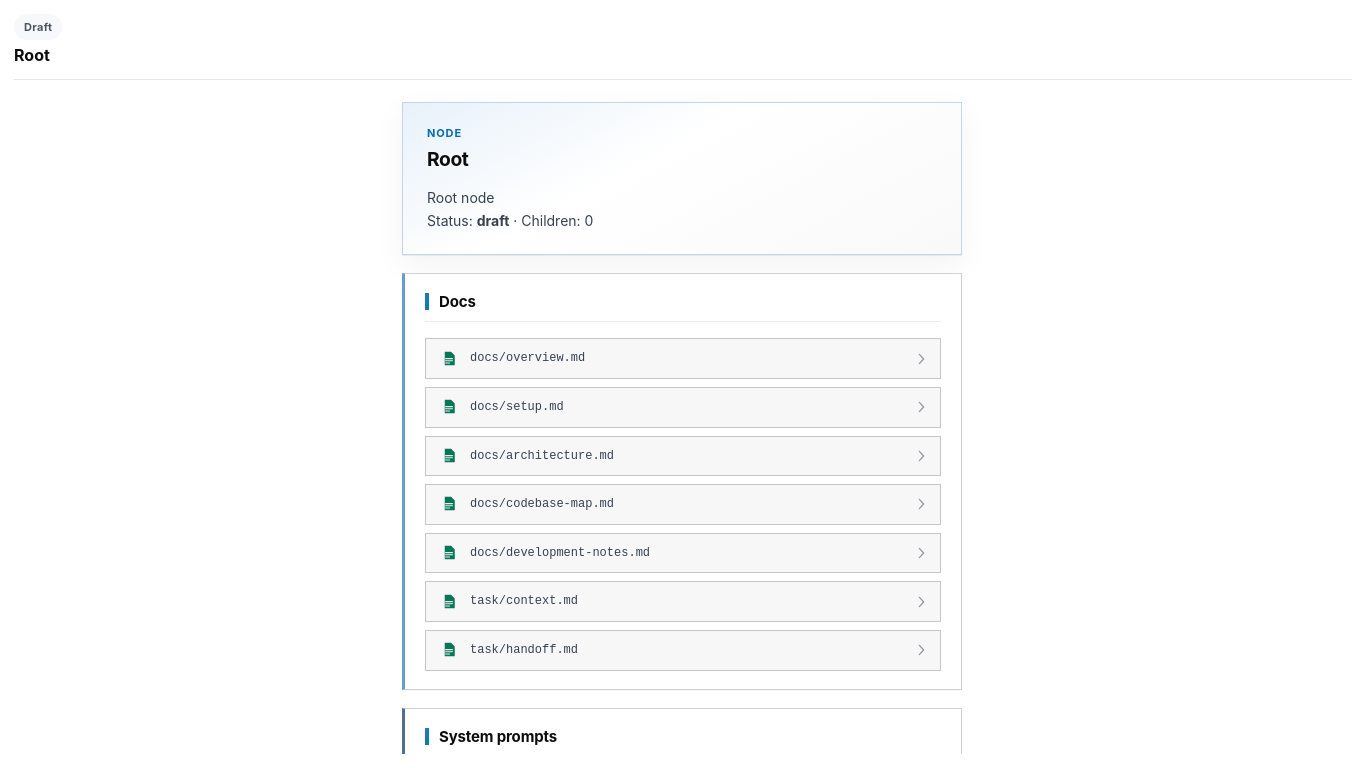
Test: NodeDetailCard › renders task/context.md as read-only Rich View in Info tab
Click the button with aria-label "Open task/context.md in markdown editor": coordinates (524, 601) [426,582,940,621]
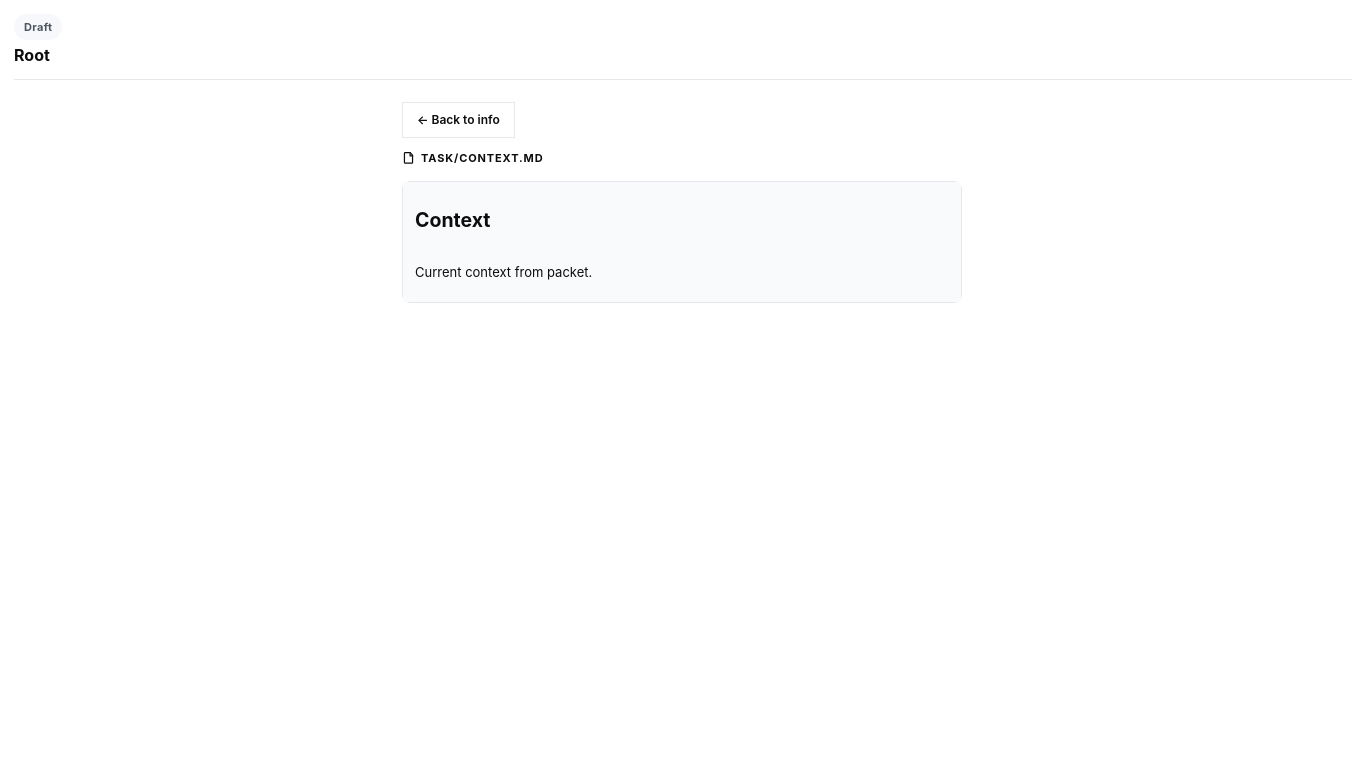
Now the element with test id "info-context-rich-view" is shown, box [415,208,592,280]
Now the text "Current context from packet." is shown, box [415,264,592,280]
